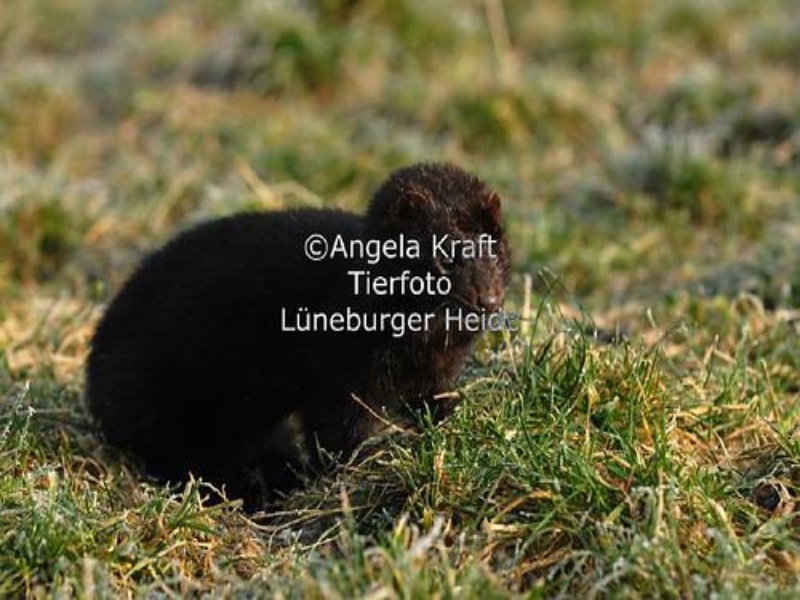minkish: (82, 159, 514, 513)
